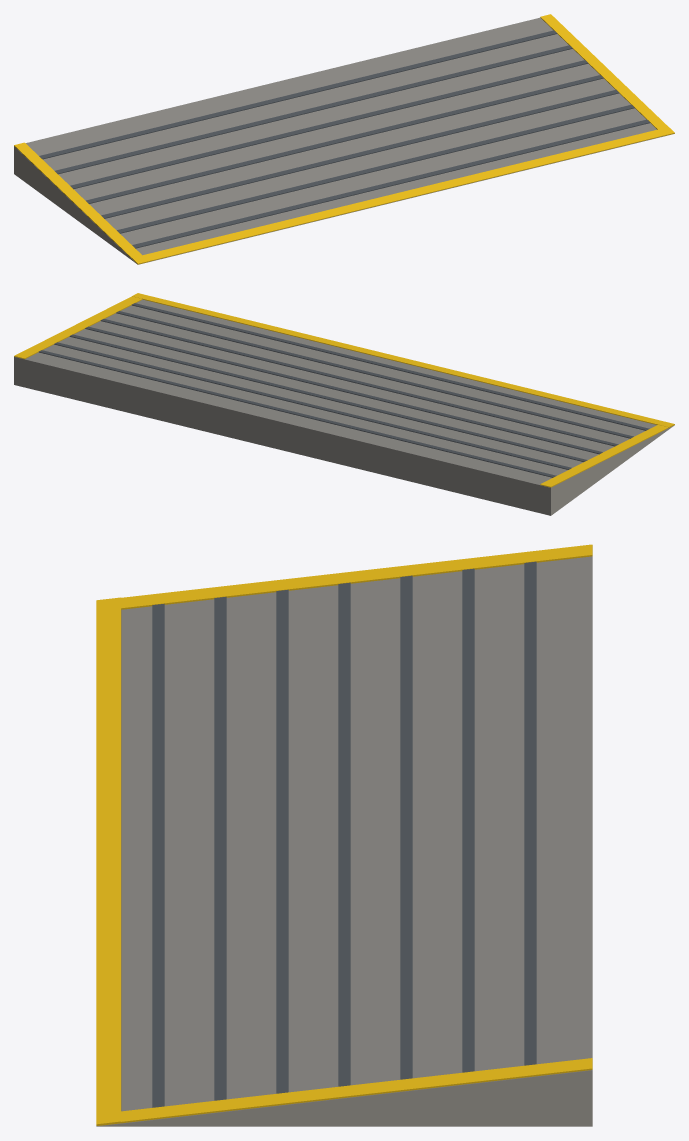
File: SC_Bld_Store_Step_3m_Ramp.gltf
The picture shows the model from 3 angles, top to bottom: view 1: azimuth 30°, elevation 25°; view 2: azimuth 150°, elevation 25°; view 3: azimuth 270°, elevation 25°; orthographic projection. The views are drawn at different scales.
Parts seen in each view (by area): view 1: SC_Bld_Store_Step_3m_Ramp; view 2: SC_Bld_Store_Step_3m_Ramp; view 3: SC_Bld_Store_Step_3m_Ramp.
Boxes of the visible parts, x1,y1,x2,y2 form: SC_Bld_Store_Step_3m_Ramp: (14,14,674,264); SC_Bld_Store_Step_3m_Ramp: (14,293,674,515); SC_Bld_Store_Step_3m_Ramp: (96,544,592,1126).
Bounding box in the file's own units: 3 × 0.155 × 1.2.
Materials: 1 (1 with a texture image).
